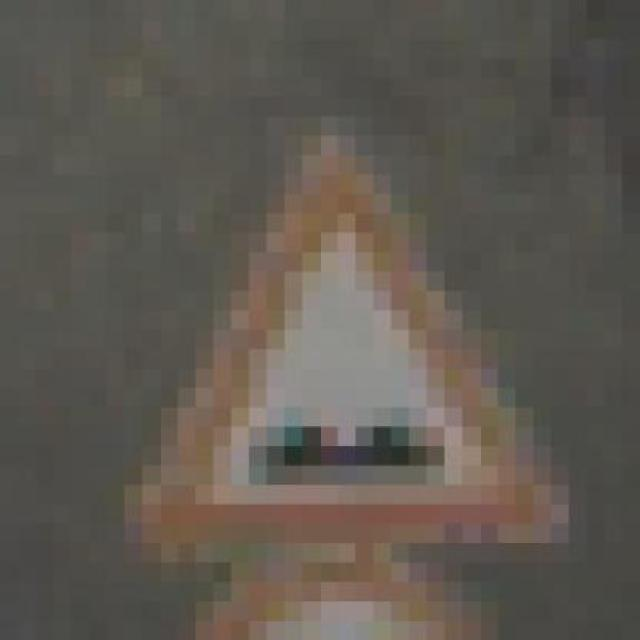Uneven Road: (89, 97, 569, 563)
